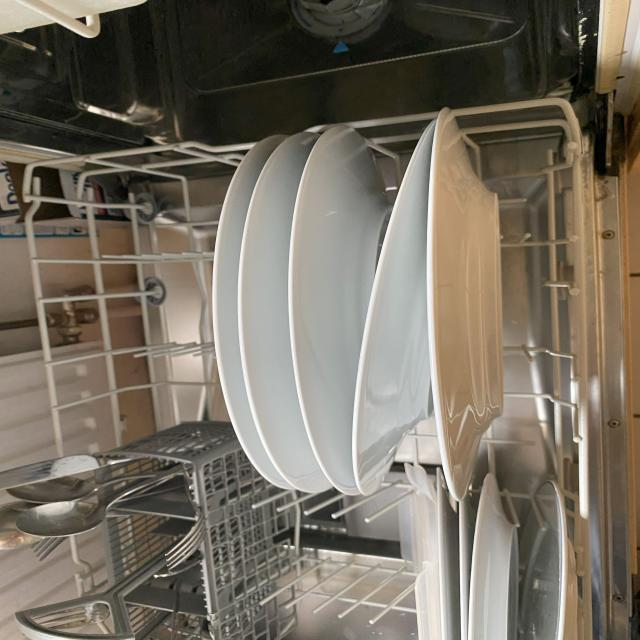clutery_bin: (17, 440, 216, 640)
empty_slot: (23, 160, 215, 414), (244, 485, 420, 640)
